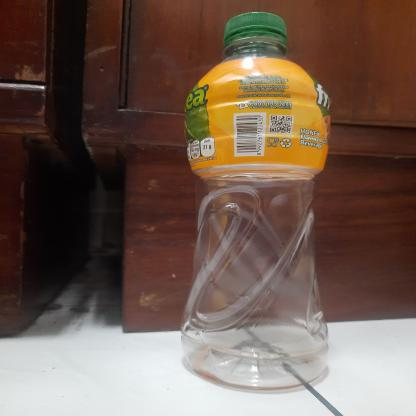bottle: (176, 9, 333, 392)
